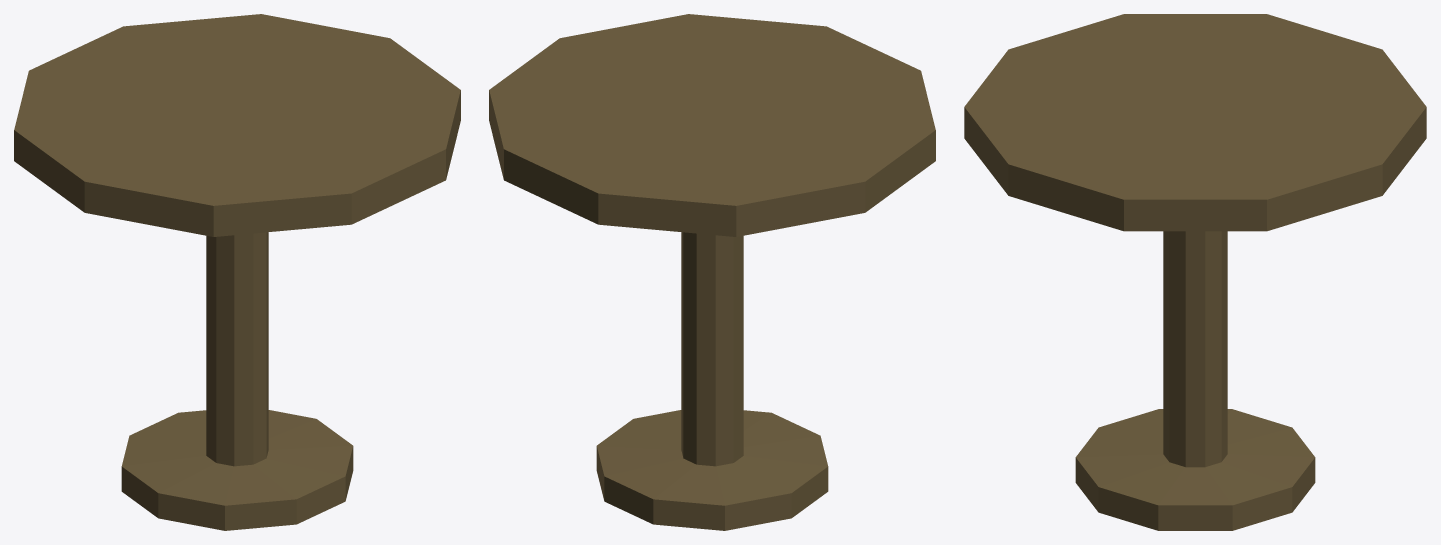
File: mesaalta.fbx
3 renders of one model, left to right at view 1: azimuth 30°, elevation 25°; view 2: azimuth 150°, elevation 25°; view 3: azimuth 270°, elevation 25°, orthographic.
Visible parts, largest first — view 1: Cylinder; view 2: Cylinder; view 3: Cylinder.
Part boxes in pixels (x1,y1,x2,y2): Cylinder: (14, 14, 460, 530); Cylinder: (489, 14, 935, 530); Cylinder: (964, 14, 1426, 530).
Bounding box in the file's own units: 159 × 150 × 167.
